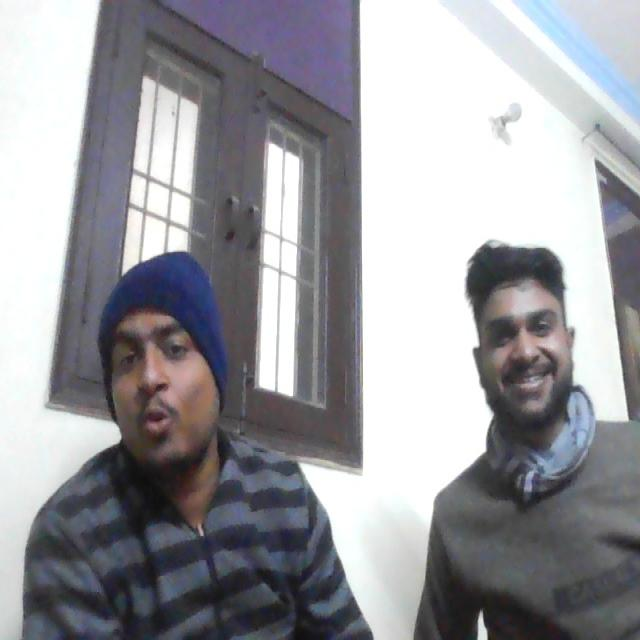real: (103, 248, 226, 481), (470, 232, 574, 428)
